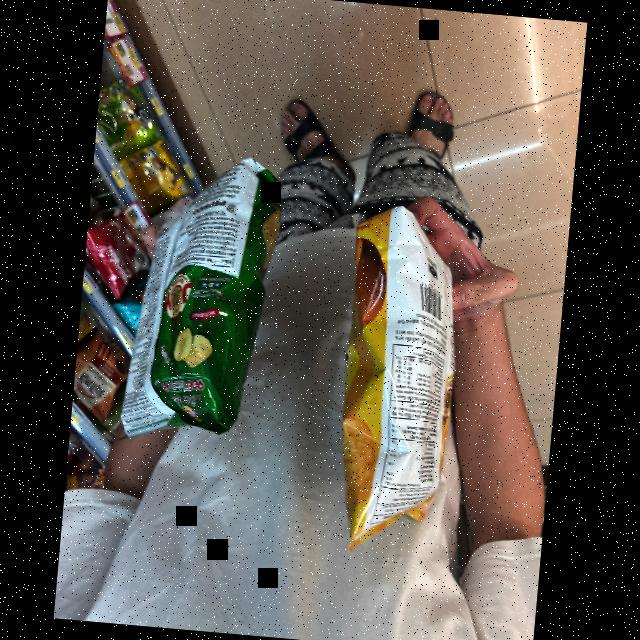snack_bag: (94, 147, 296, 457), (312, 195, 470, 562)
